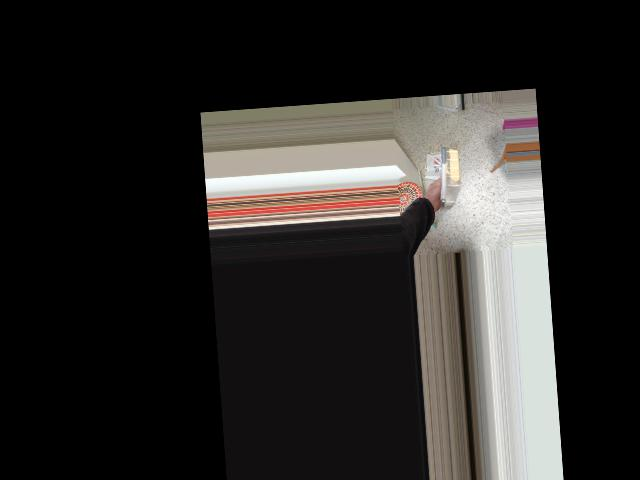cheese: (424, 144, 469, 207)
